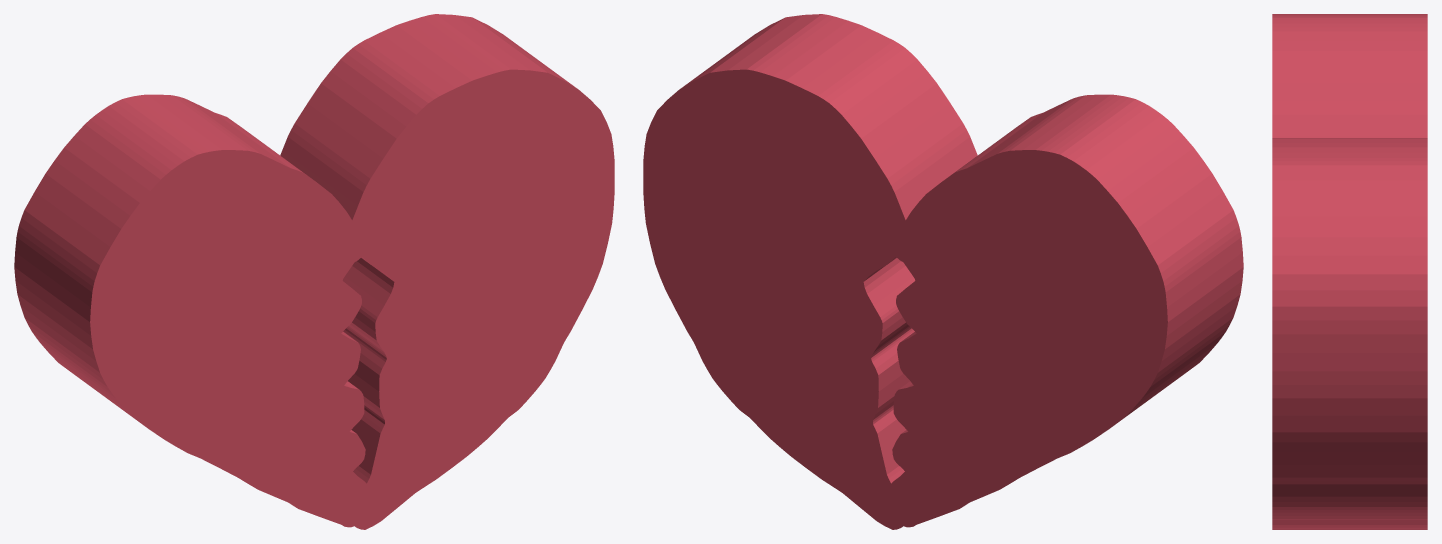
File: asset.glb
3 views of the same model, side by side, from view 1: azimuth 30°, elevation 25°; view 2: azimuth 150°, elevation 25°; view 3: azimuth 270°, elevation 25° (orthographic). The views are drawn at different scales.
Parts seen in each view (by area): view 1: Mesh_Mesh_head_geo.001_lambert2SG.001; view 2: Mesh_Mesh_head_geo.001_lambert2SG.001; view 3: Mesh_Mesh_head_geo.001_lambert2SG.001.
Part boxes in pixels (<box>): Mesh_Mesh_head_geo.001_lambert2SG.001: <box>14,14,614,529</box>; Mesh_Mesh_head_geo.001_lambert2SG.001: <box>643,14,1243,529</box>; Mesh_Mesh_head_geo.001_lambert2SG.001: <box>1272,14,1427,529</box>.
Size of the model in its own units: 39.95 by 30.95 by 10.
